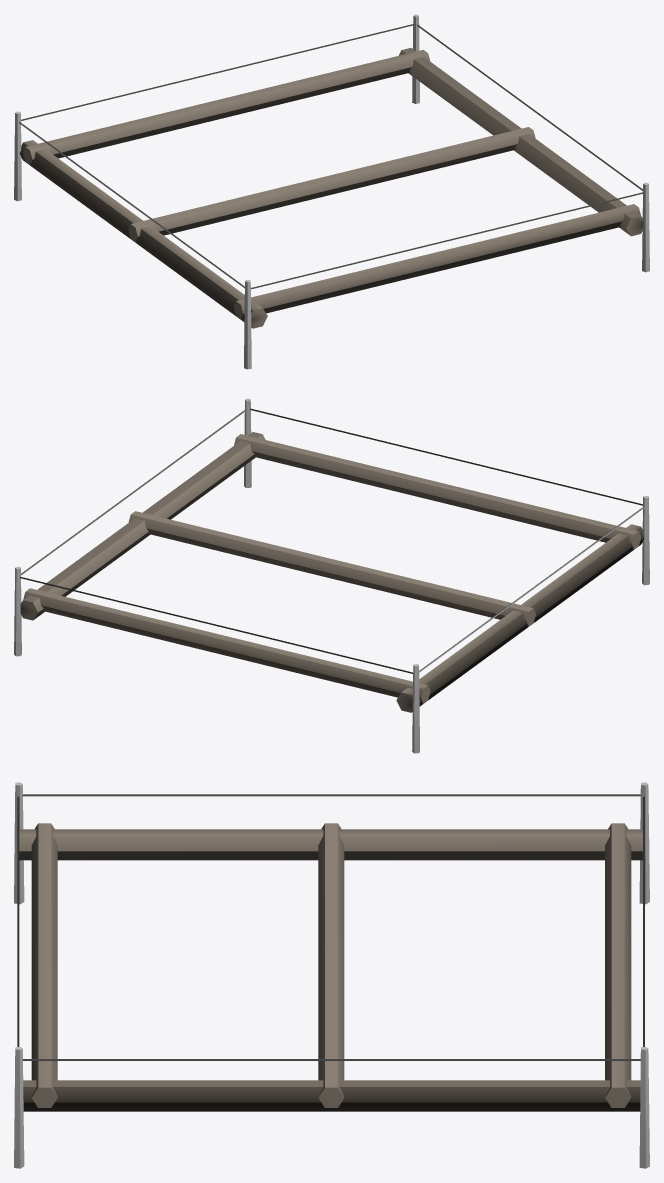
Rendered from suelo_frame.glb.
3 views of the same model, one above another, from view 1: azimuth 30°, elevation 25°; view 2: azimuth 150°, elevation 25°; view 3: azimuth 270°, elevation 25° (orthographic). The views are drawn at different scales.
Visible parts, largest first — view 1: suelo_frame; view 2: suelo_frame; view 3: suelo_frame.
Part boxes in pixels (<box>): suelo_frame: <box>14,14,649,369</box>; suelo_frame: <box>14,398,649,753</box>; suelo_frame: <box>14,782,649,1168</box>.
Bounding box in the file's own units: 2.44 × 0.5 × 2.44.
